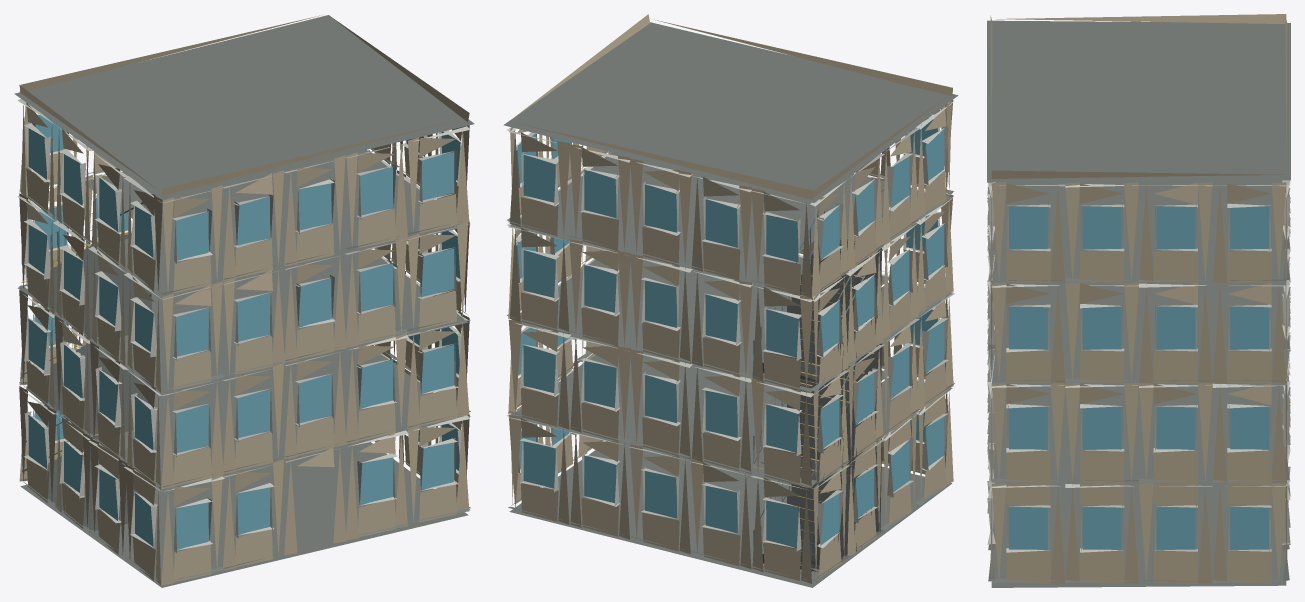
File: architecture-apartment.lod2.glb
3 renders of one model, left to right at view 1: azimuth 30°, elevation 25°; view 2: azimuth 150°, elevation 25°; view 3: azimuth 270°, elevation 25°, orthographic. The views are drawn at different scales.
Visible parts, largest first — view 1: architecture-apartment__body; view 2: architecture-apartment__body; view 3: architecture-apartment__body.
Boxes of the visible parts, <box> form: architecture-apartment__body: <box>14,14,474,587</box>; architecture-apartment__body: <box>503,14,958,587</box>; architecture-apartment__body: <box>987,14,1290,587</box>.
Size of the model in its own units: 10.25 by 12.51 by 8.25.
